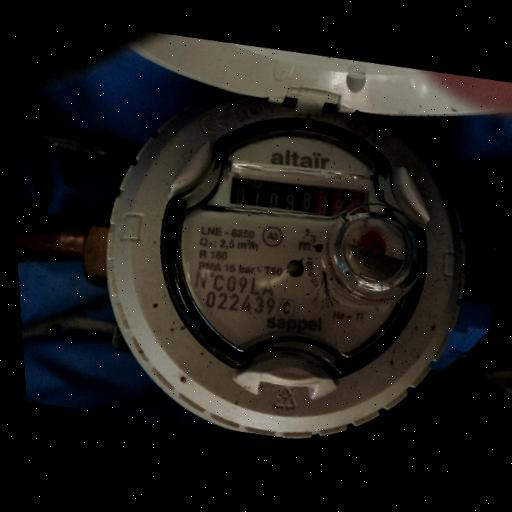0: (231, 177, 254, 208), (263, 179, 284, 209)
1: (248, 178, 269, 208)
8: (296, 184, 316, 214)
9: (310, 185, 332, 218), (279, 182, 300, 212), (327, 188, 347, 219)
border_water_meter_number: (227, 164, 374, 232)
